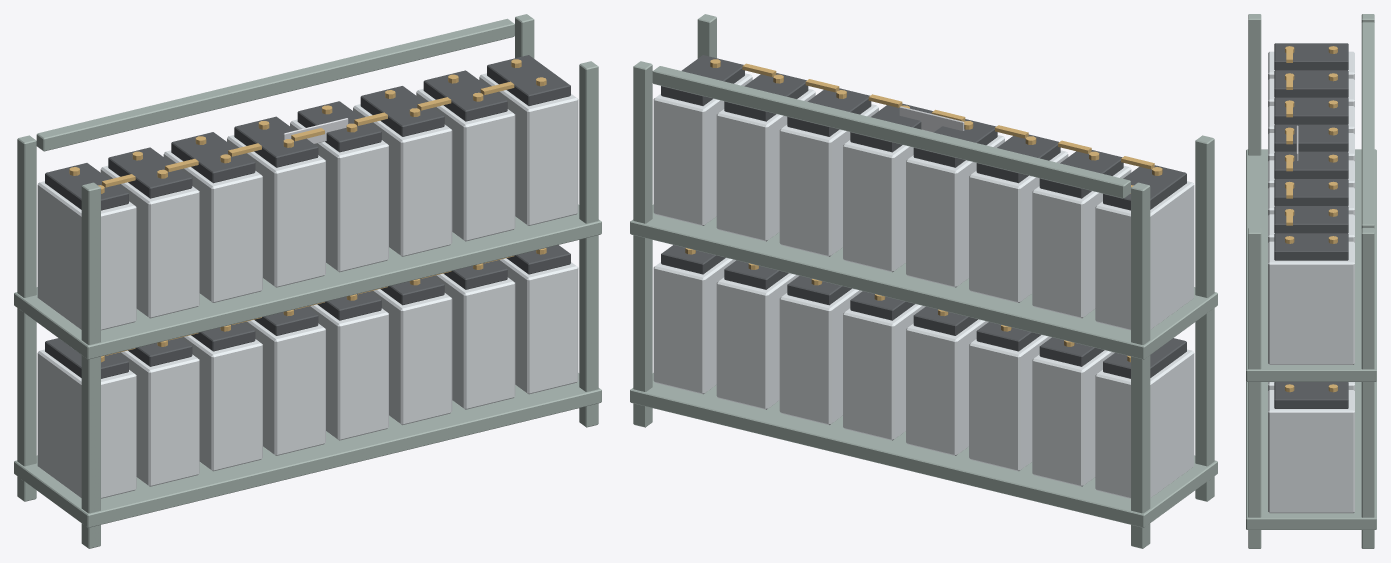
The model's file is nuclear-power-station-and-control-room-battery-room-ra-f268ecab__36941.glb.
3 renders of one model, left to right at view 1: azimuth 30°, elevation 25°; view 2: azimuth 150°, elevation 25°; view 3: azimuth 270°, elevation 25°, orthographic. The views are drawn at different scales.
Visible parts, largest first — view 1: battery-room-rack; view 2: battery-room-rack; view 3: battery-room-rack.
Boxes of the visible parts, <box> form: battery-room-rack: <box>14,14,601,548</box>; battery-room-rack: <box>630,14,1217,548</box>; battery-room-rack: <box>1246,14,1376,548</box>.
Bounding box in the file's own units: 2.4 × 1.6 × 0.6001.
